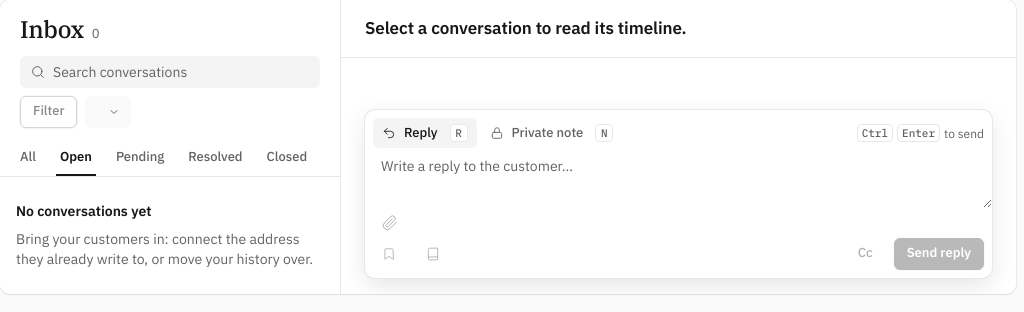
Test case: shows the dense inbox filters and three-pane conversation workspace
Expected: the search field labelled "Search conversations" is shown, [20,56,320,88]
Expected: the element named "Status" is shown, [16,140,324,176]
Click the button "Filter".
click(49, 112)  # box [20,96,77,128]
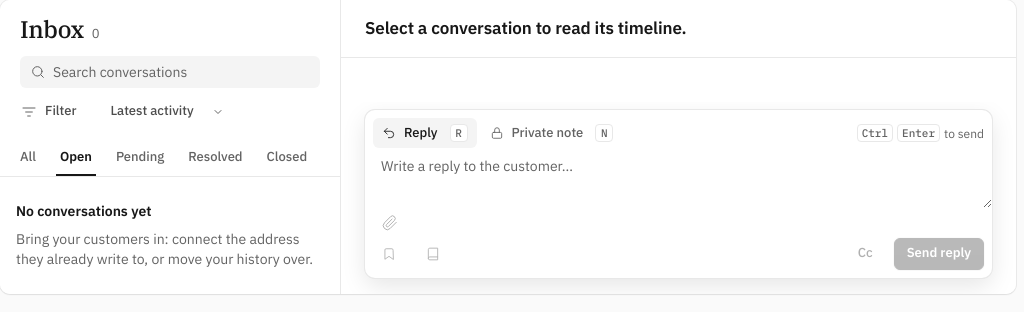
Expected: the dropdown named "Sort" is shown, [97,96,235,128]
Expected: the element named "conversation list" is shown, [0,0,340,294]
Click the button "Private note N".
click(551, 133)  # box [480,118,622,148]
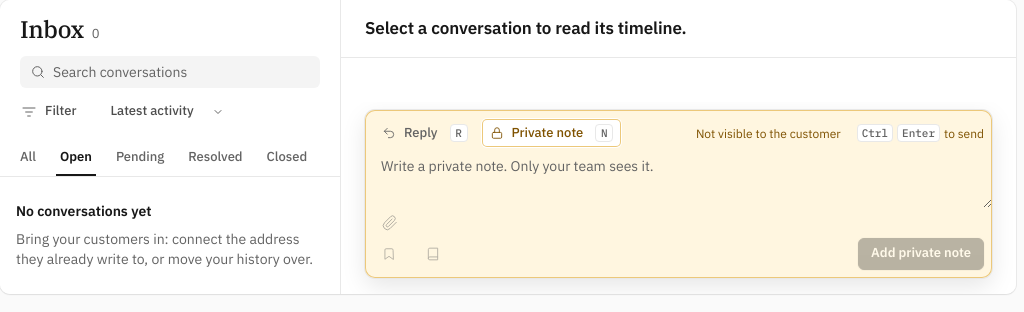
Expected: the button "Add private note" is shown, [858,238,984,270]
